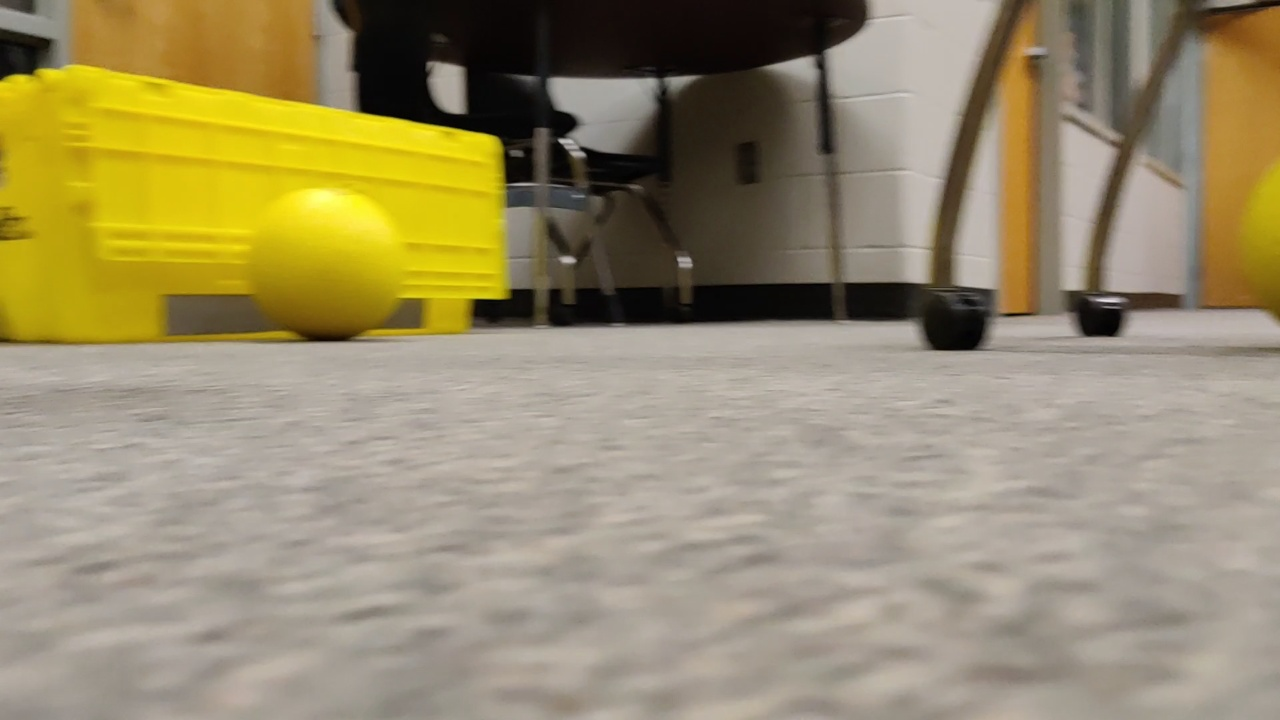Ball: (251, 187, 406, 341)
